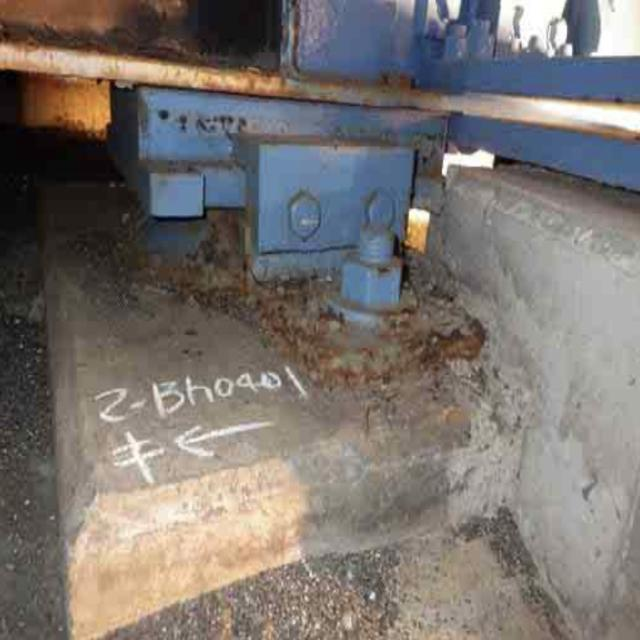corrosion: (181, 237, 490, 369), (41, 20, 450, 119)
